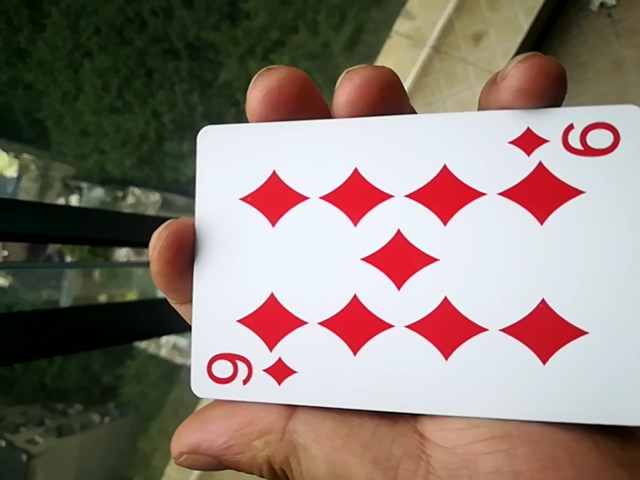fk 9: (167, 112, 634, 431)
